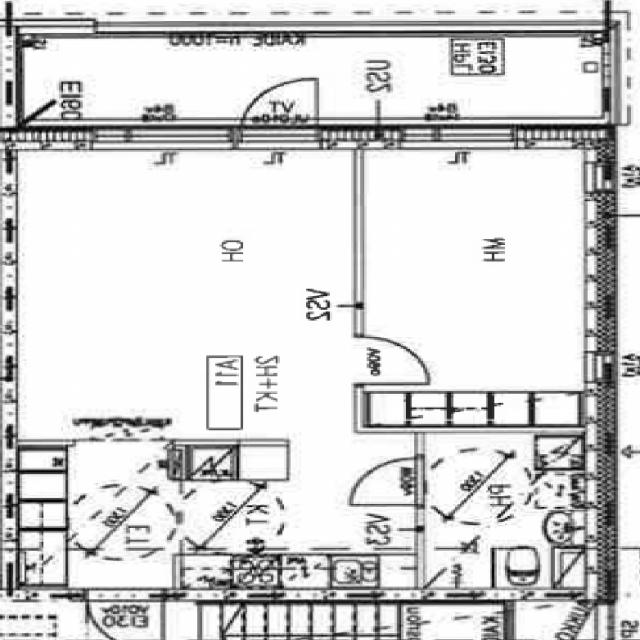door: (241, 73, 320, 148), (88, 588, 164, 640), (348, 458, 424, 505), (354, 337, 430, 384)
